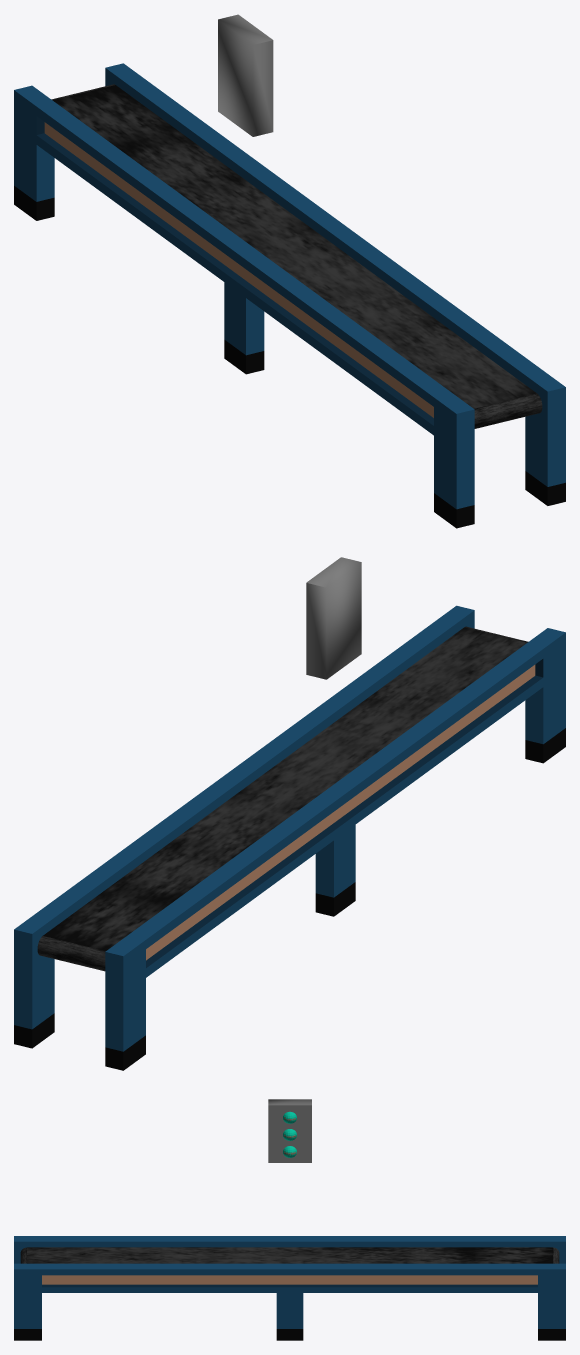
File: conveyor_belt_ver02.fbx
3 renders of one model, top to bottom at view 1: azimuth 30°, elevation 25°; view 2: azimuth 150°, elevation 25°; view 3: azimuth 270°, elevation 25°, orthographic. The views are drawn at different scales.
Visible parts, largest first — view 1: conveyor_belt, conveyor_button_box; view 2: conveyor_belt, conveyor_button_box; view 3: conveyor_belt, conveyor_button_box.
Part boxes in pixels (left/top/right/bottom): conveyor_belt: left=14, top=63, right=565, bottom=528; conveyor_button_box: left=218, top=14, right=273, bottom=136; conveyor_belt: left=14, top=605, right=565, bottom=1070; conveyor_button_box: left=306, top=557, right=361, bottom=679; conveyor_belt: left=14, top=1236, right=565, bottom=1340; conveyor_button_box: left=268, top=1099, right=311, bottom=1162.
Size of the model in its own units: 60 by 175 by 420.
Materials: 1 (1 with a texture image).
